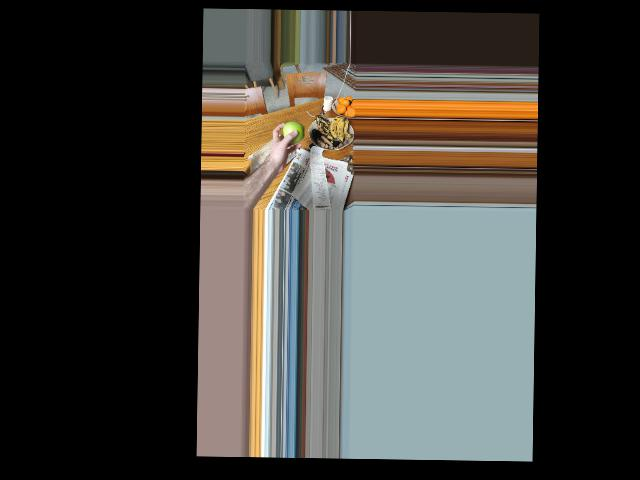apple: (282, 121, 304, 145)
